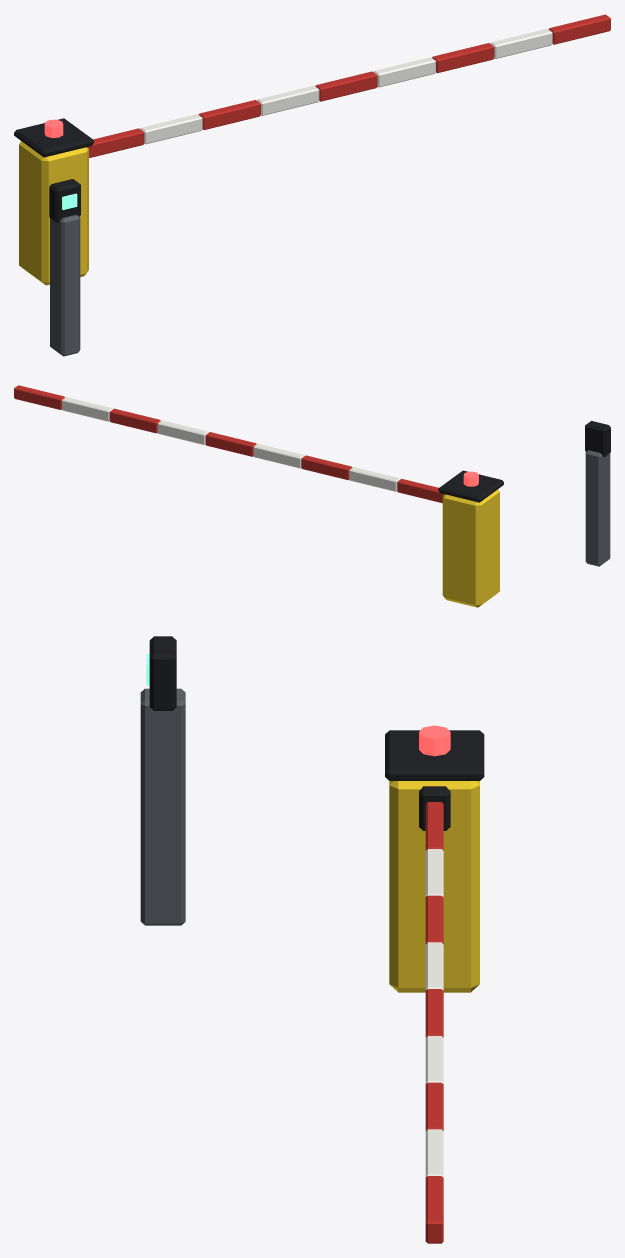
File: PD_GateArm.fbx
3 views of the same model, one above another, from view 1: azimuth 30°, elevation 25°; view 2: azimuth 150°, elevation 25°; view 3: azimuth 270°, elevation 25° (orthographic). The views are drawn at different scales.
Parts seen in each view (by area): view 1: PD_GateArm_Base, PD_GateArm_Arm; view 2: PD_GateArm_Base, PD_GateArm_Arm; view 3: PD_GateArm_Base, PD_GateArm_Arm.
Part boxes in pixels (left/top/right/bottom): PD_GateArm_Base: left=14, top=118, right=93, bottom=356; PD_GateArm_Arm: left=87, top=14, right=610, bottom=157; PD_GateArm_Base: left=438, top=421, right=610, bottom=607; PD_GateArm_Arm: left=14, top=385, right=443, bottom=503; PD_GateArm_Base: left=140, top=636, right=484, bottom=992; PD_GateArm_Arm: left=419, top=786, right=450, bottom=1243.
Size of the model in its own units: 5.36 by 1.34 by 1.52.
